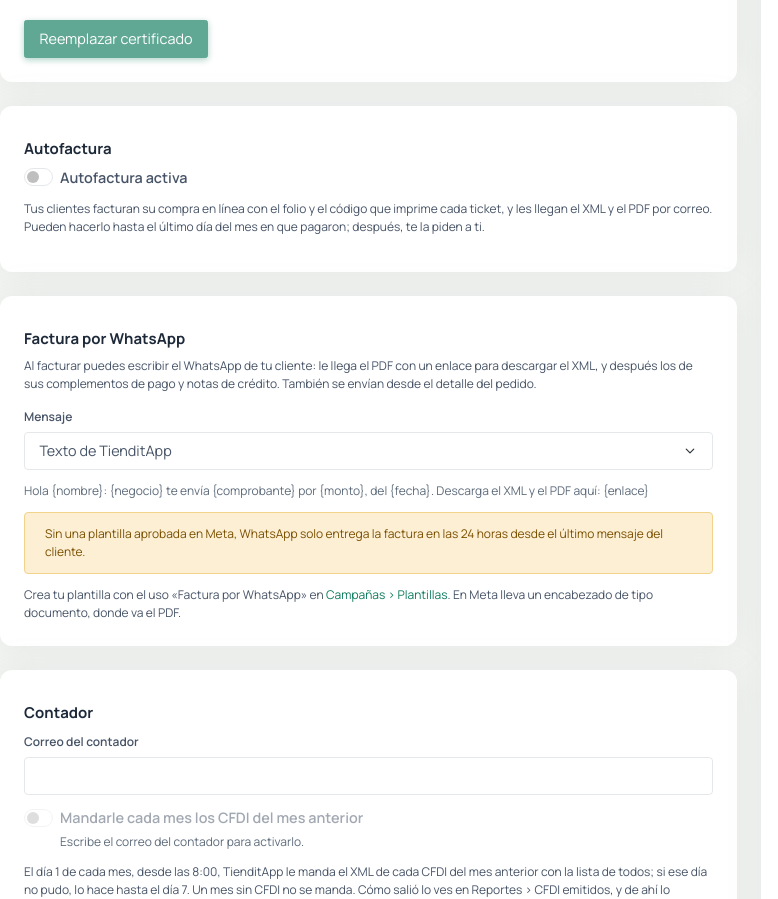
it: Invoicing settings: the invoice by WhatsApp (Fase 28M) › goes with TienditApp's text, which only arrives within the 24 hours, until a template approved in Meta is chosen
(page scrolled)
expect the text "Hola {nombre}: {negocio} te envía {comprobante} por {monto}, del {fecha}. Descarga el XML y el PDF aquí: {enlace}" is shown: met, box [24,482,649,499]
expect the text "Sin una plantilla aprobada en Meta, WhatsApp solo entrega la factura en las 24 horas" is shown: met, box [45,525,663,560]
Select "Factura con PDF" in the dropdown labelled "Mensaje". click: {"x": 368, "y": 451}
box: [24,432,713,470]
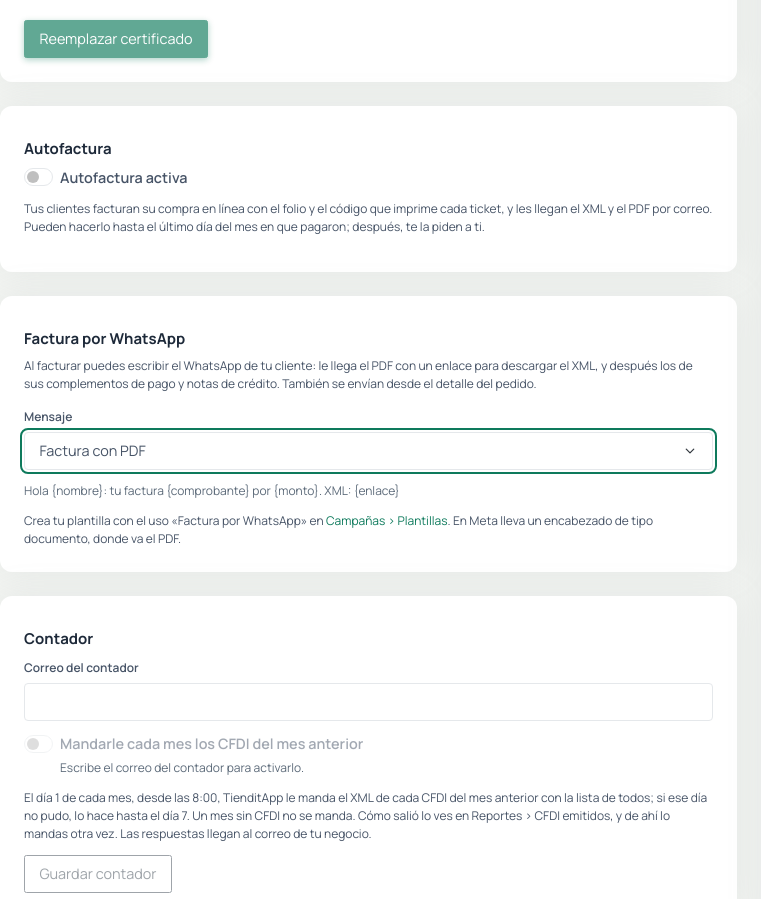
expect the text "Hola {nombre}: tu factura {comprobante} por {monto}. XML: {enlace}" is shown: met, box [24,482,400,499]
expect the text "WhatsApp solo" is gone: met
